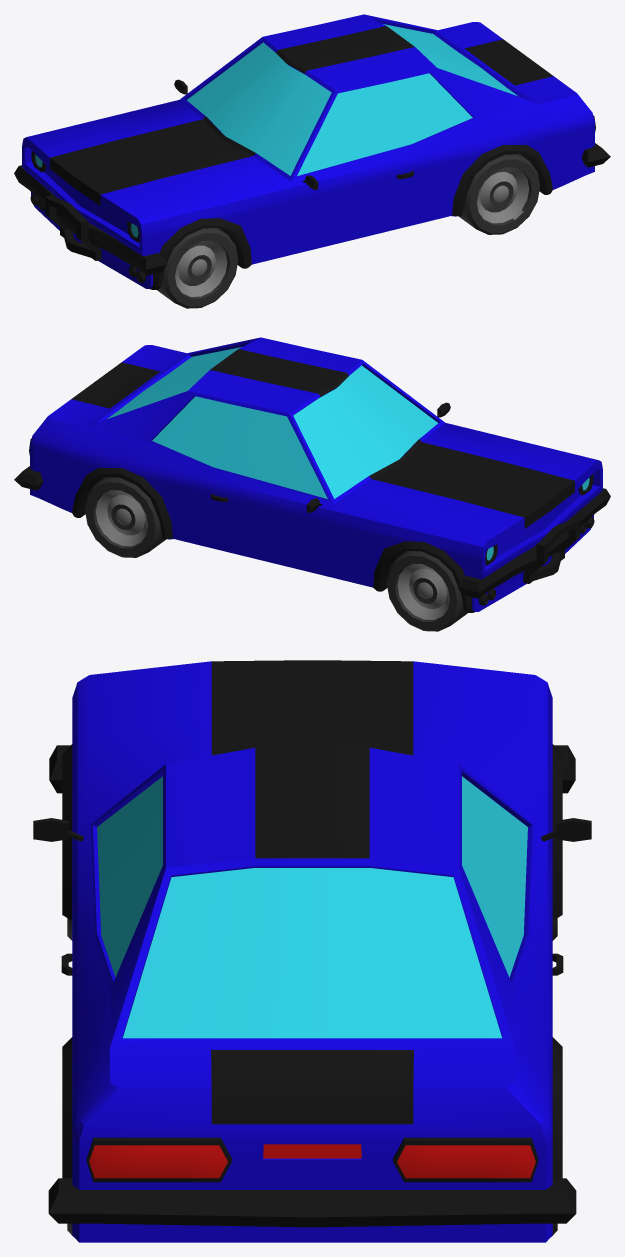
The model's file is Araba2.fbx.
The picture shows the model from 3 angles, top to bottom: view 1: azimuth 30°, elevation 25°; view 2: azimuth 150°, elevation 25°; view 3: azimuth 270°, elevation 25°; orthographic projection. The views are drawn at different scales.
Visible parts, largest first — view 1: Araba1; view 2: Araba1; view 3: Araba1.
Boxes of the visible parts, x1,y1,x2,y2 form: Araba1: (14, 14, 610, 308); Araba1: (14, 337, 610, 631); Araba1: (33, 660, 591, 1242).
Bounding box in the file's own units: 545 × 179 × 271.
